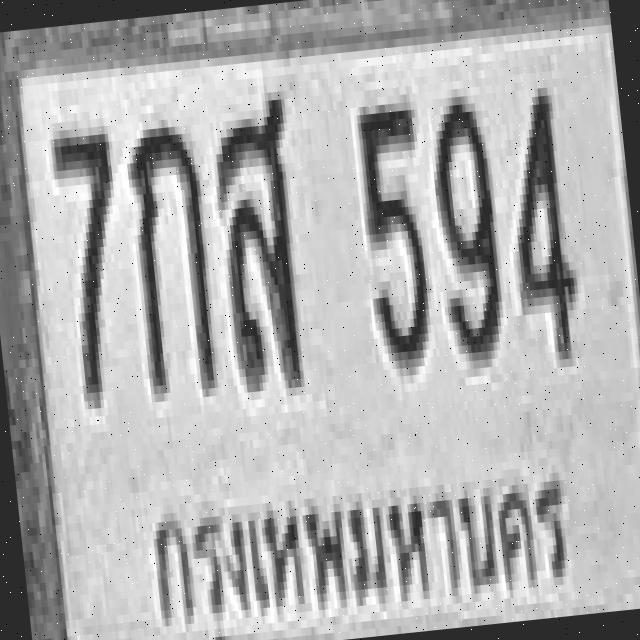10GorGai: (122, 116, 221, 394)
4: (498, 86, 582, 362)
49SorSuea: (208, 91, 312, 393)
5: (353, 93, 439, 370)
7: (49, 122, 135, 406)
9: (424, 86, 508, 362)
Bangkok: (138, 440, 593, 640)
